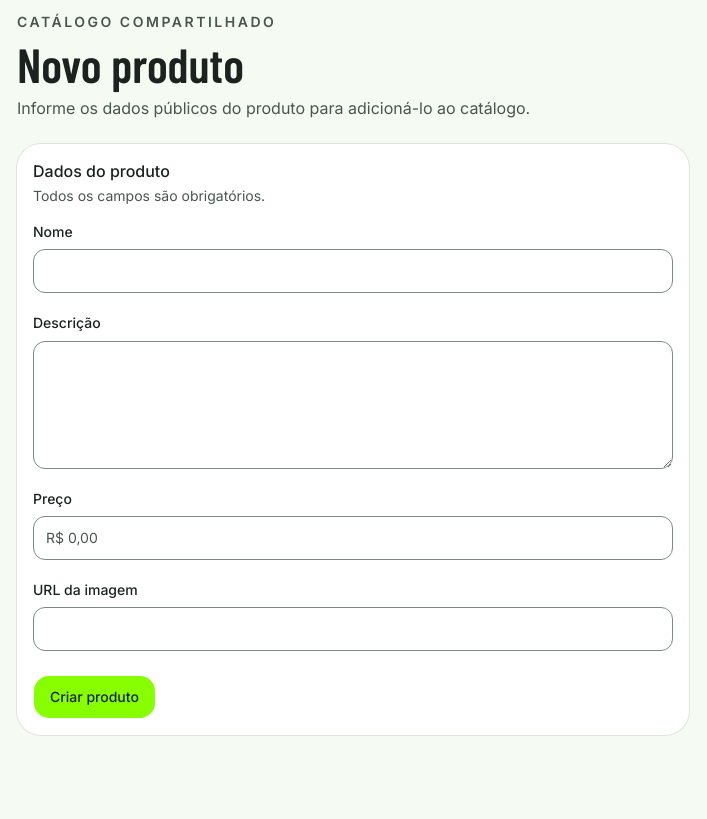
ProductCreationScreen › preserva valores corrigíveis e mostra erro seguro da API
Type "Produto principal" into the field labelled "Nome". click: (353,271)
box: [33,249,673,293]
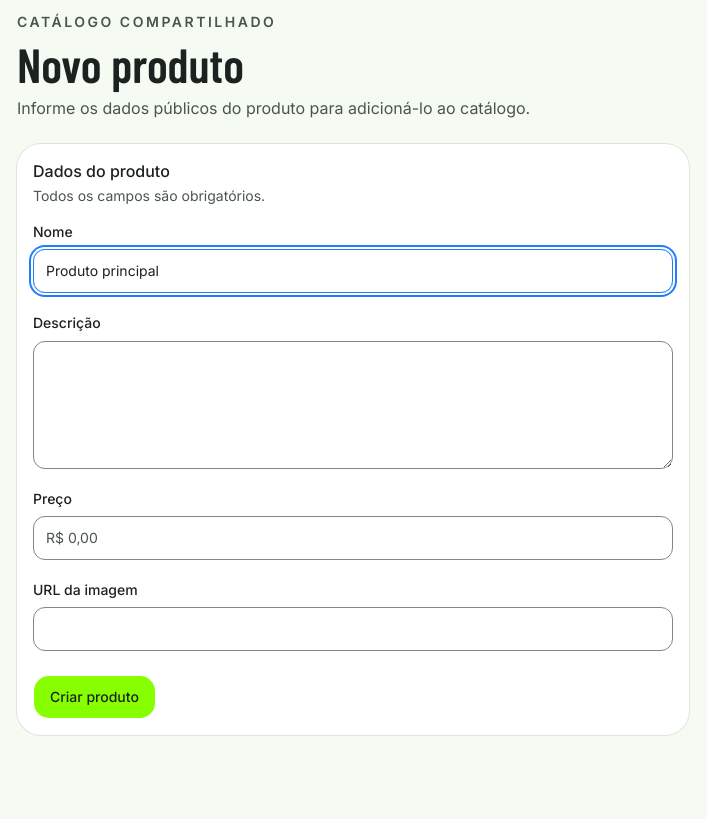
Type "Descrição do produto" into the text box labelled "Descrição". click: (353,404)
box: [33,340,673,468]
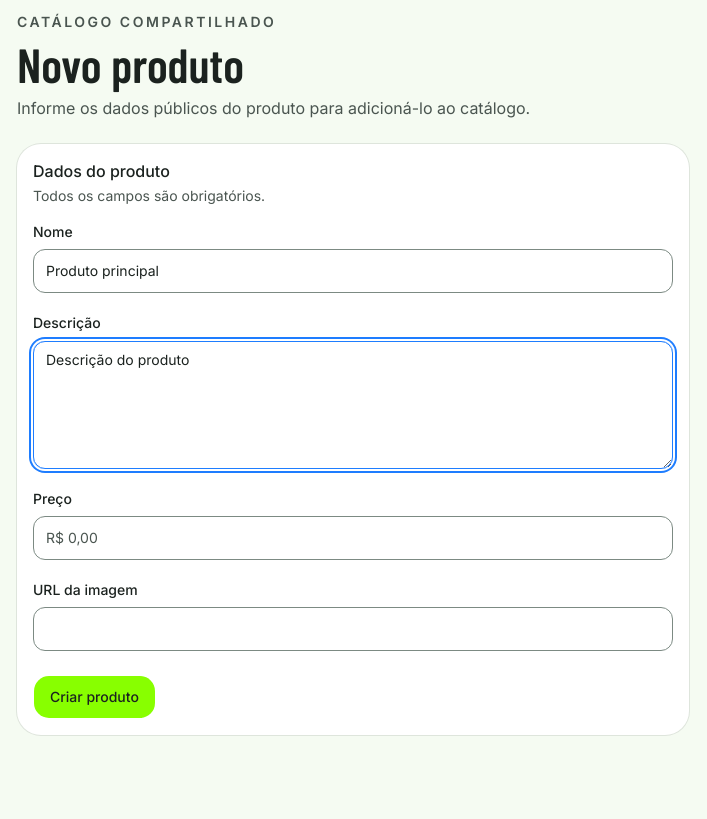
Type "99.90" into the field labelled "Preço". click: (353,538)
box: [33,516,673,560]
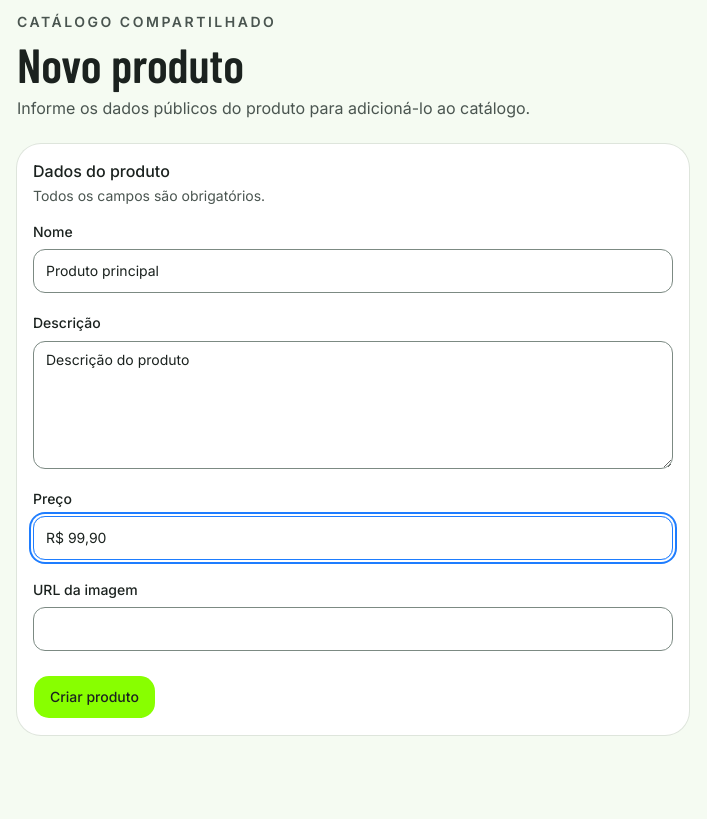
Type "https://example.com/product.png" into the field labelled "URL da imagem". click: (353,629)
box: [33,607,673,651]
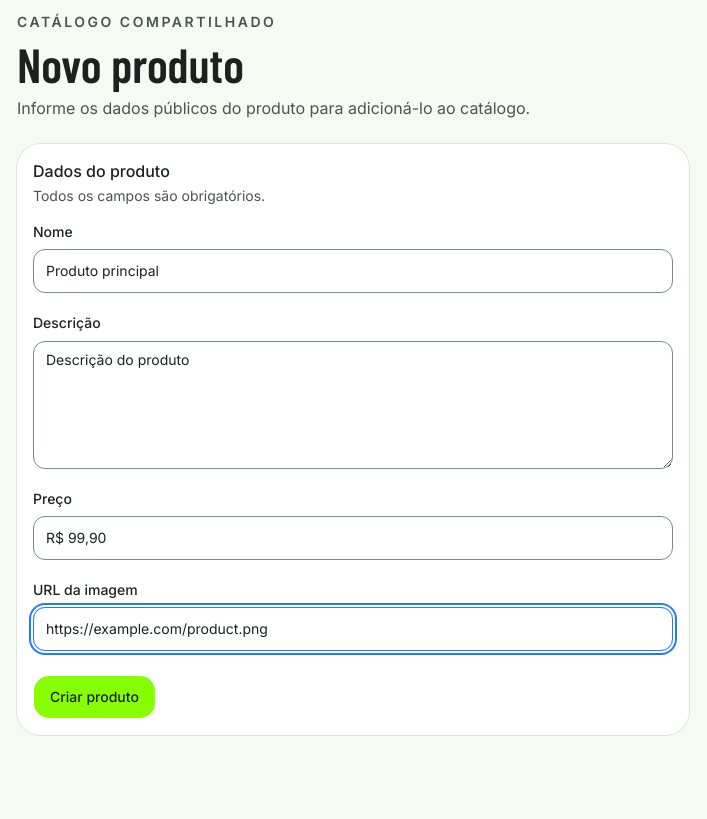
Click the button "Criar produto". click: (94,697)
box: [33,675,156,719]
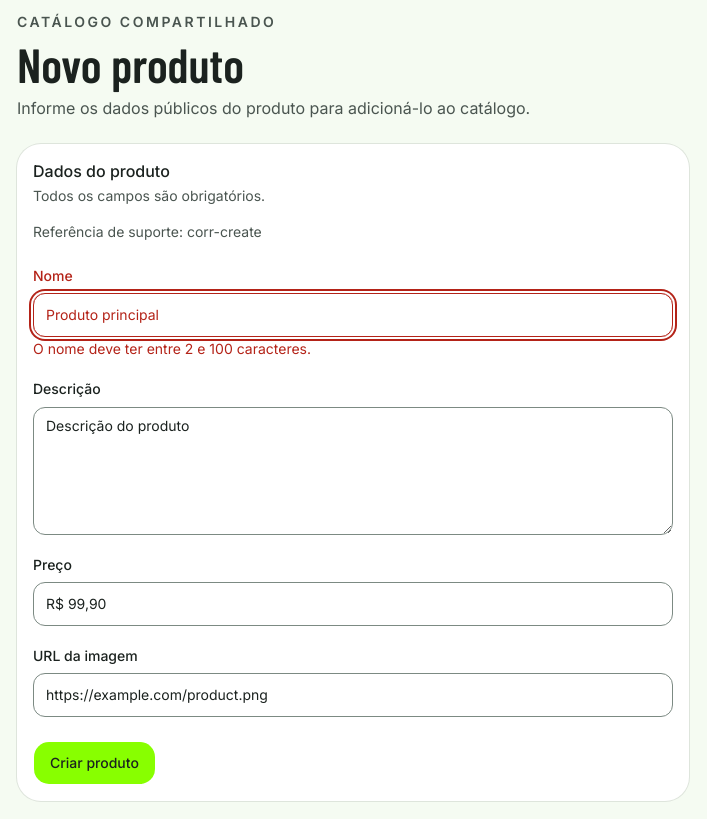
Expected: the message "O nome deve ter entre 2 e 100 caracteres." does not show "mensagem externa", [33,340,311,357]
Expected: the message "O nome deve ter entre 2 e 100 caracteres." is shown, [33,340,311,357]
Expected: the message "Referência de suporte: corr-create" is shown, [33,223,262,240]
